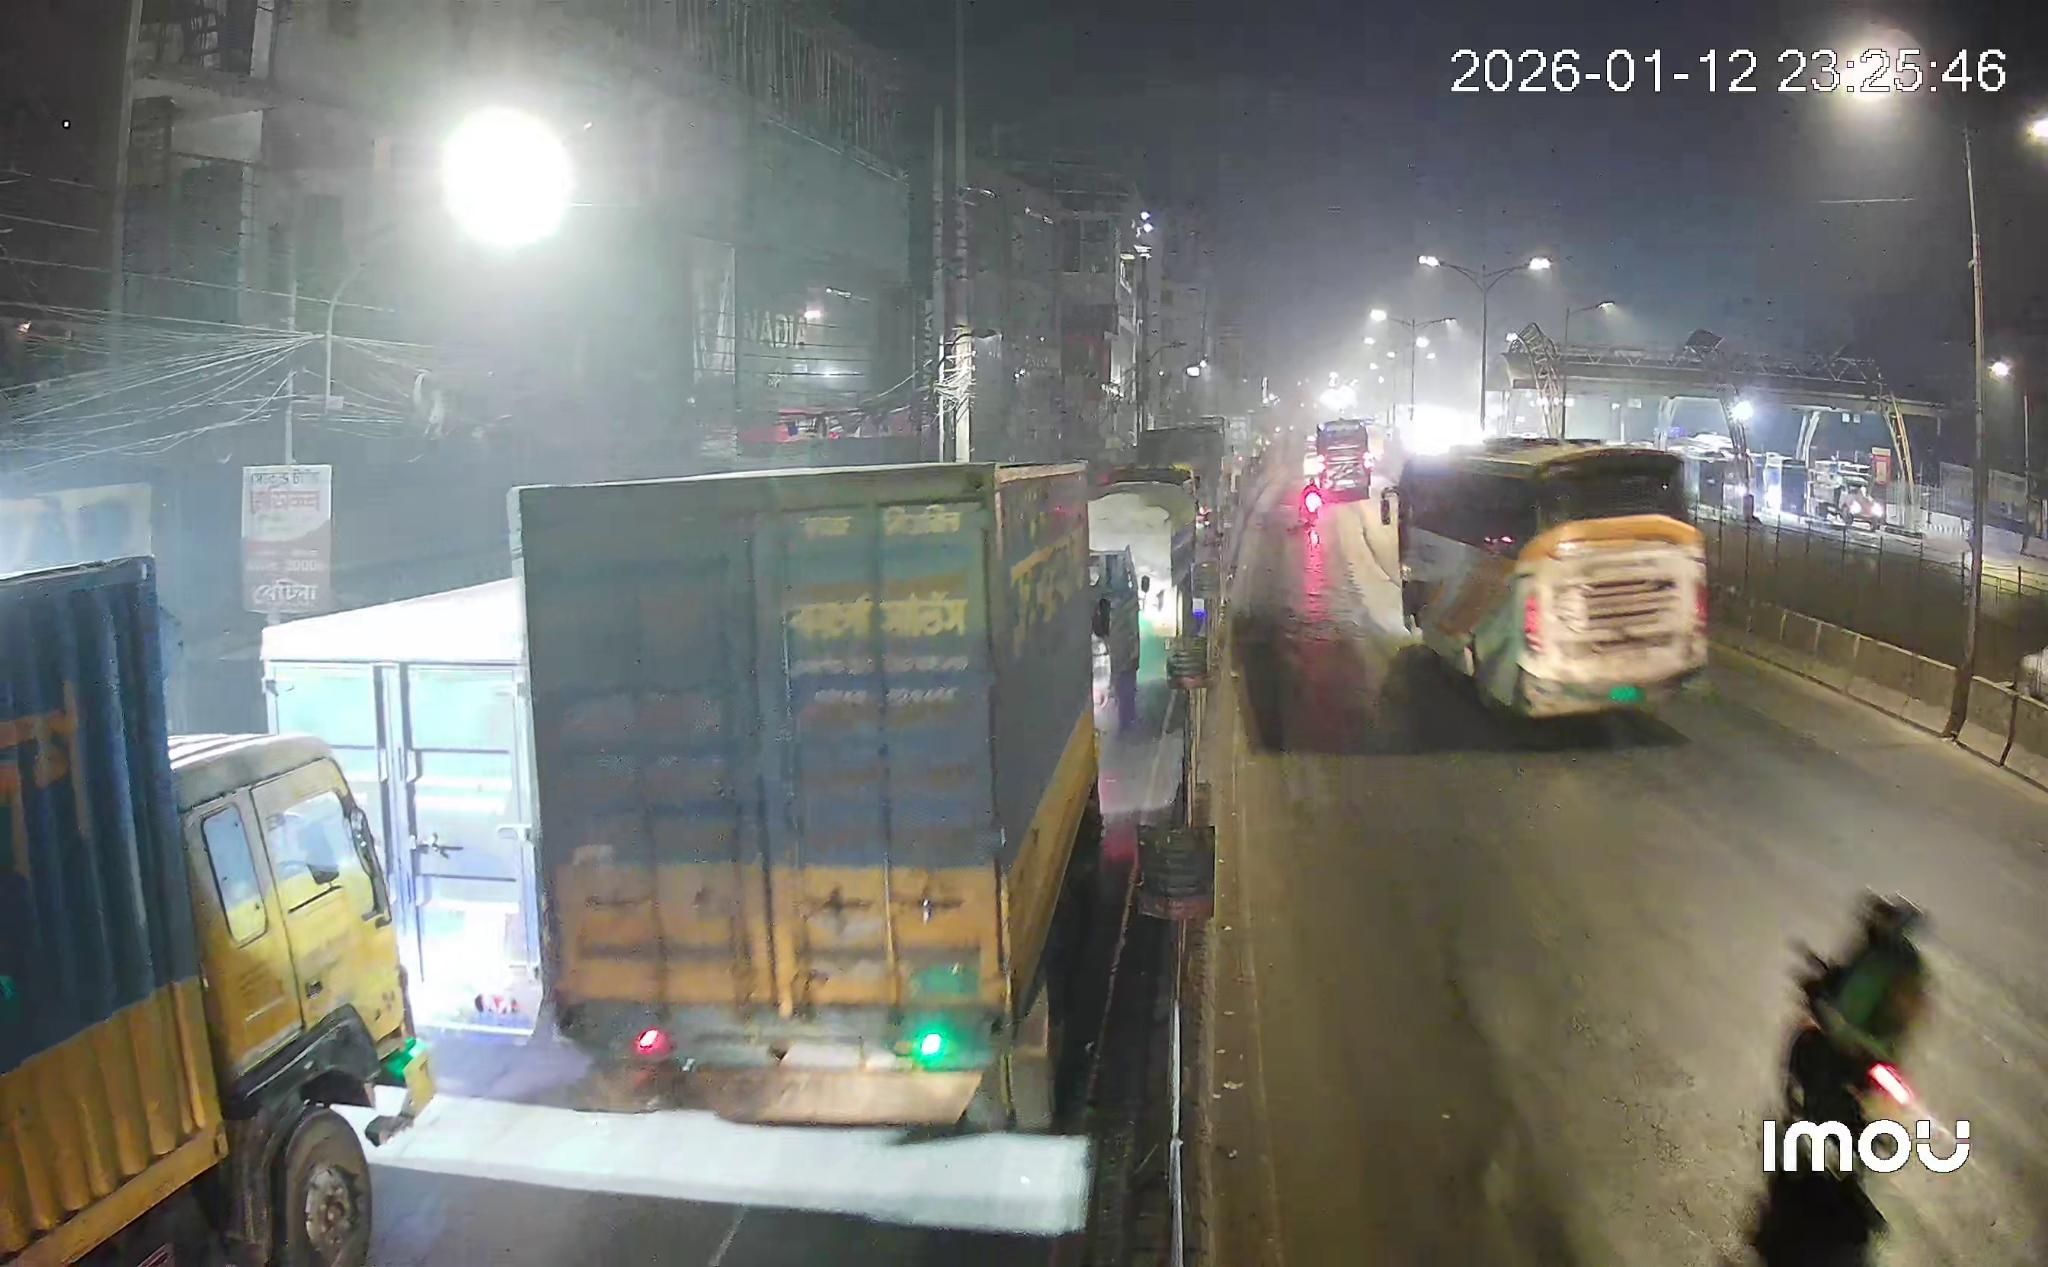Bus: (1381, 437, 1709, 718)
Motorcycle: (1767, 894, 1946, 1178)
Truck: (511, 464, 1128, 1132), (0, 557, 434, 1267)
